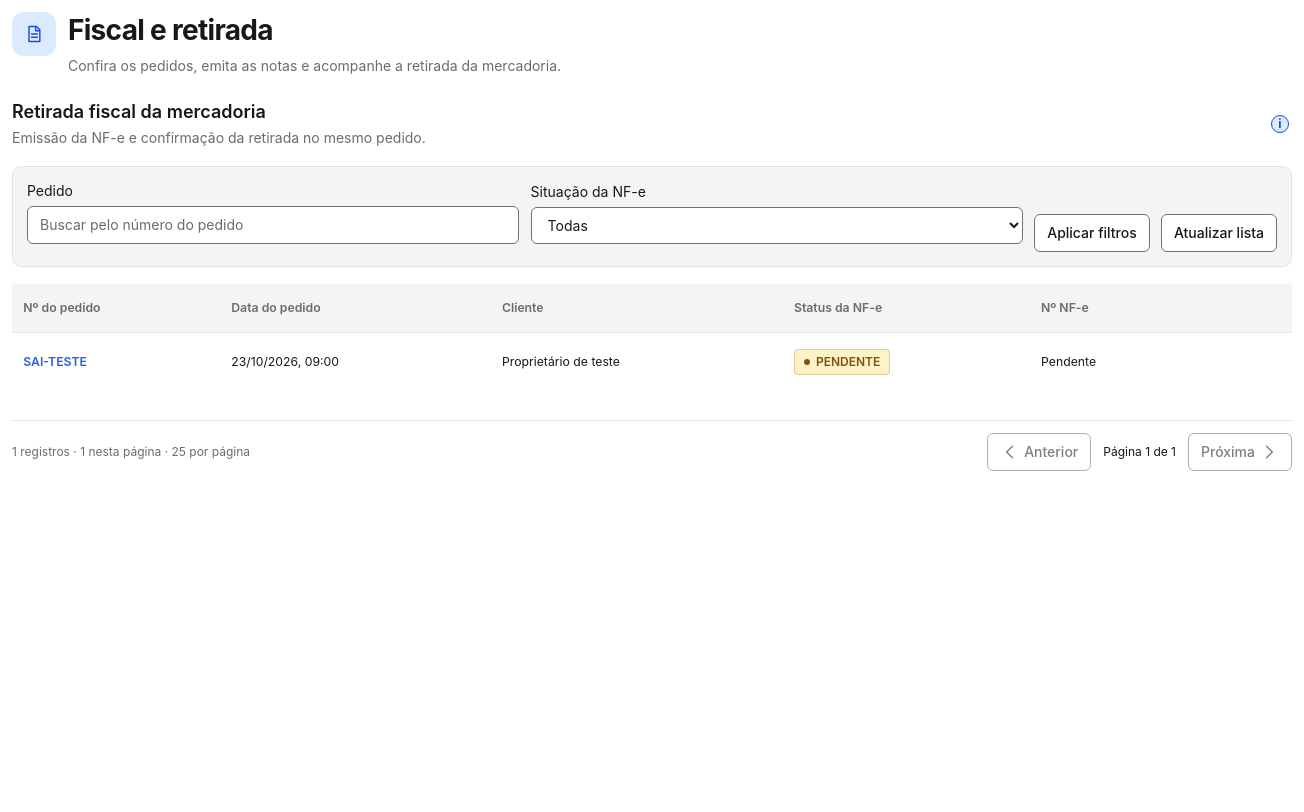
Test: perfil operacional consulta sem apresentar emissão ou cancelamento
Click the button "SAI-TESTE". click: (55, 362)
box: [23, 344, 87, 380]
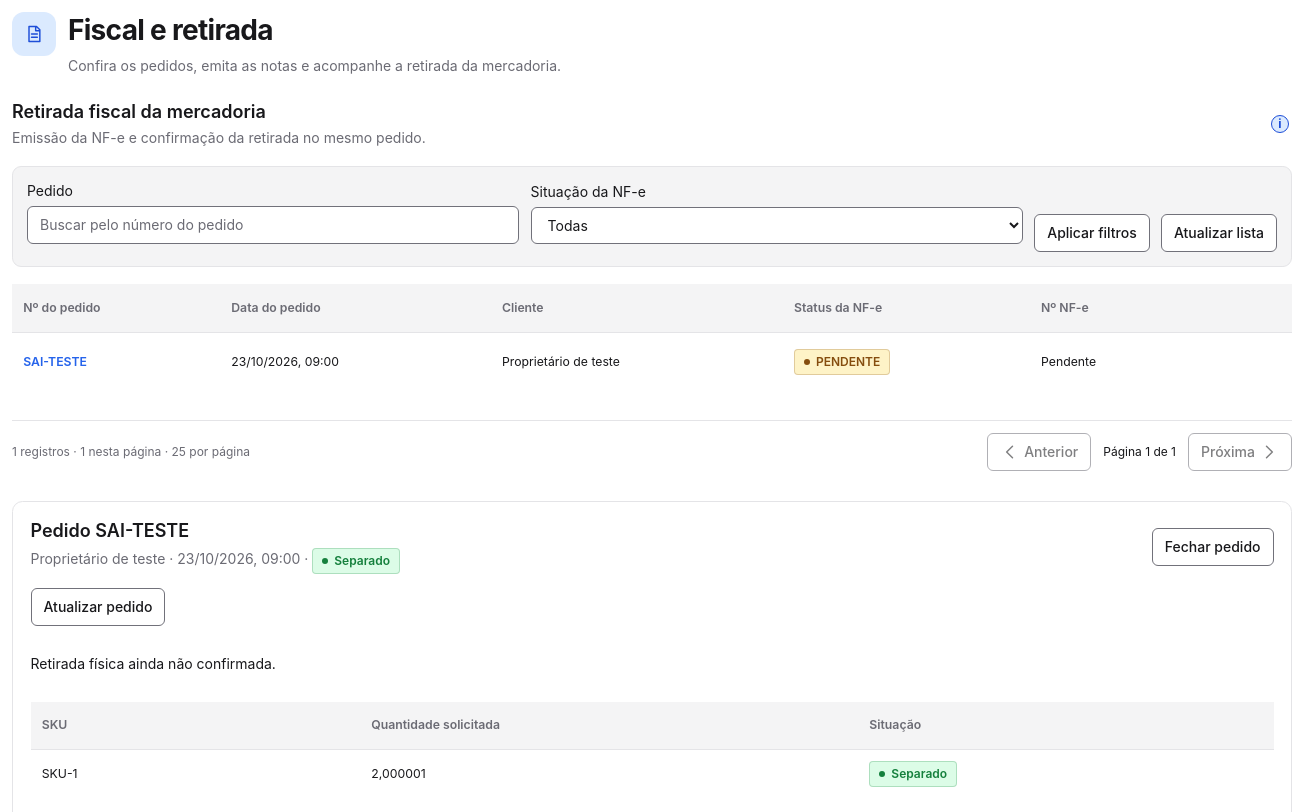
Expected: the table named "Itens do pedido" is shown, [30, 702, 1274, 798]
